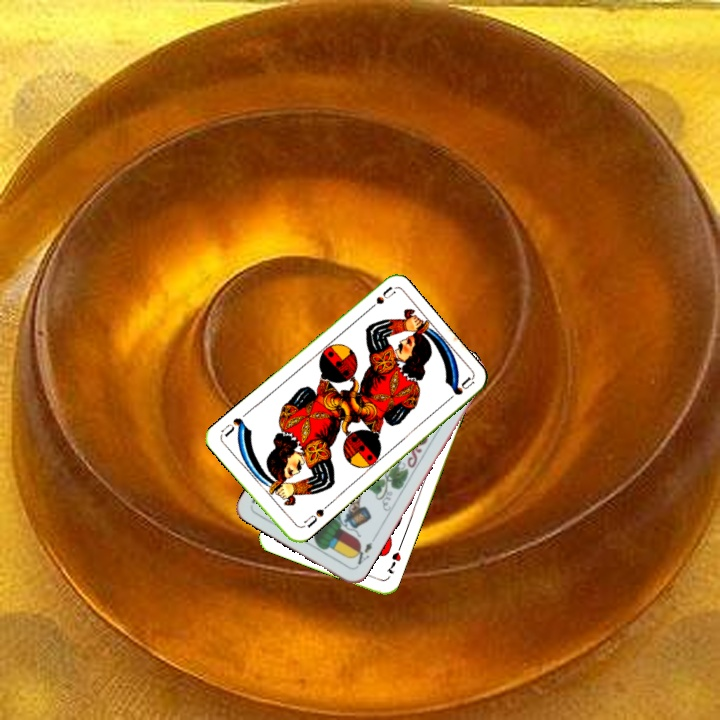EA: (349, 533, 378, 570)
H7: (382, 548, 404, 576)
SU: (361, 283, 397, 316), (300, 501, 331, 530)
